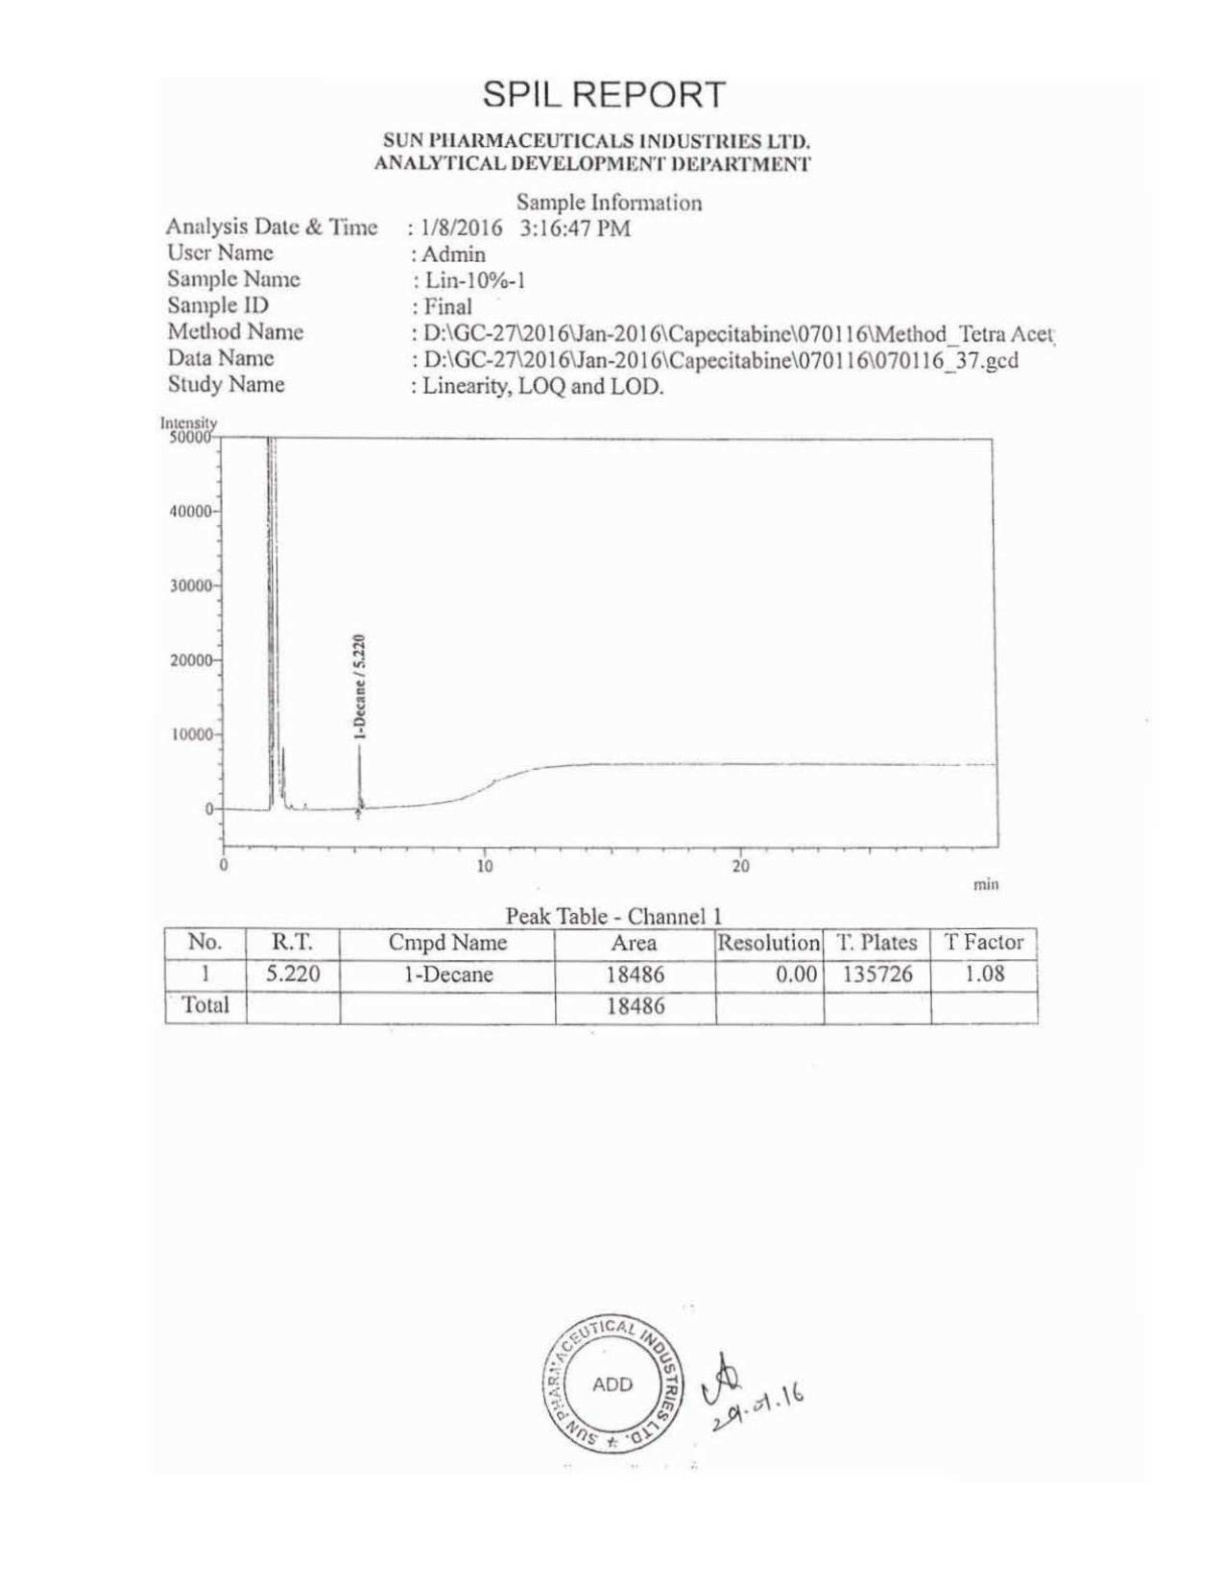full_lined: (161, 926, 1038, 1025)
nolines: (165, 215, 1056, 400)
